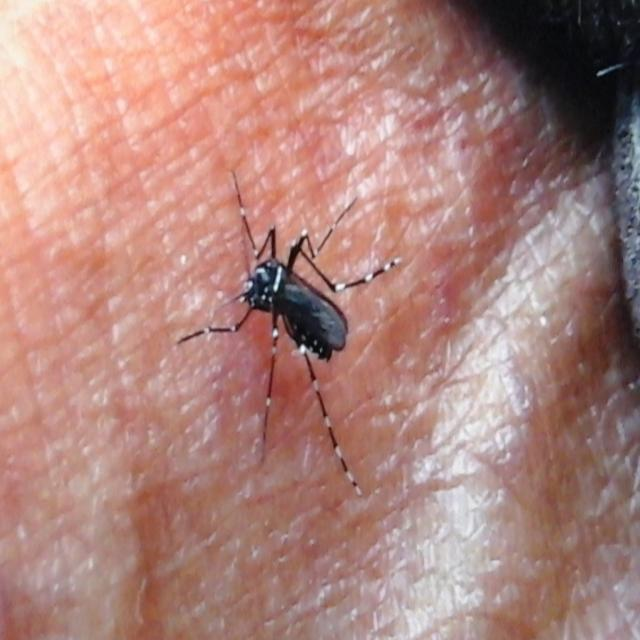albopictus: (178, 154, 398, 493)
